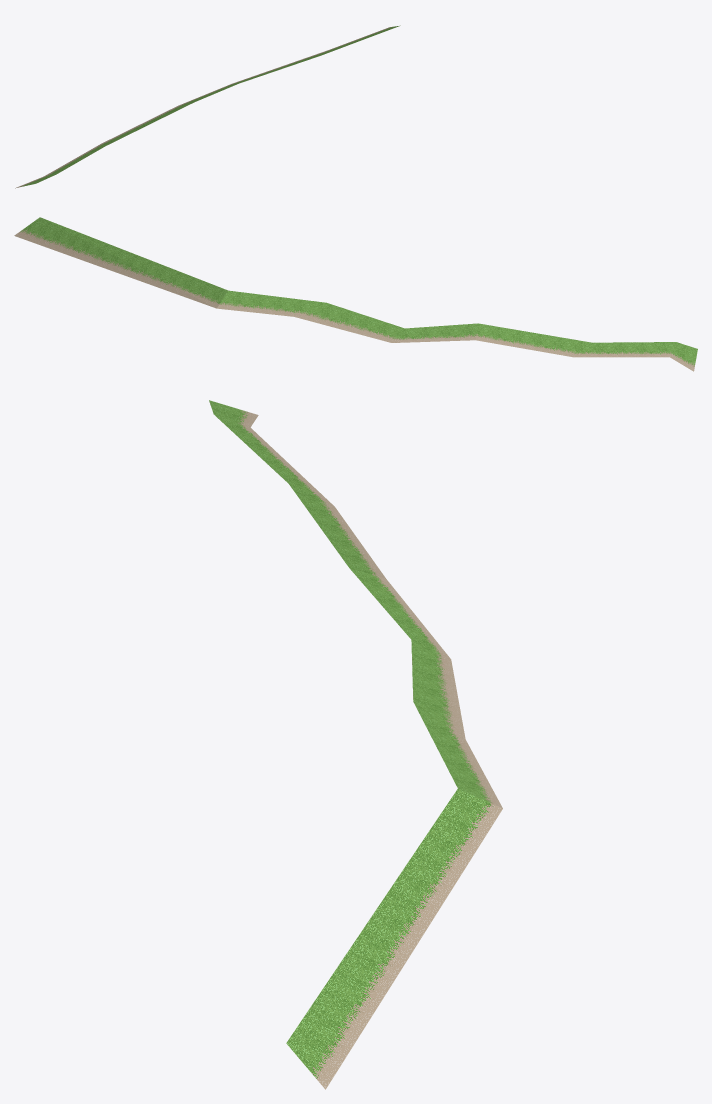
Rendered from kd_stage_136599_19_19_bounded.glb.
3 views of the same model, one above another, from view 1: azimuth 30°, elevation 25°; view 2: azimuth 150°, elevation 25°; view 3: azimuth 270°, elevation 25° (orthographic). The views are drawn at different scales.
Visible parts, largest first — view 1: kd_stage_136599_19_19_bounded; view 2: kd_stage_136599_19_19_bounded; view 3: kd_stage_136599_19_19_bounded.
Boxes of the visible parts, left/top/right/bottom form: kd_stage_136599_19_19_bounded: left=15, top=25, right=400, bottom=188; kd_stage_136599_19_19_bounded: left=14, top=217, right=697, bottom=371; kd_stage_136599_19_19_bounded: left=209, top=400, right=502, bottom=1089.
Size of the model in its own units: 74.4 by 3.37 by 14.29.
1 material, 1 textured.
